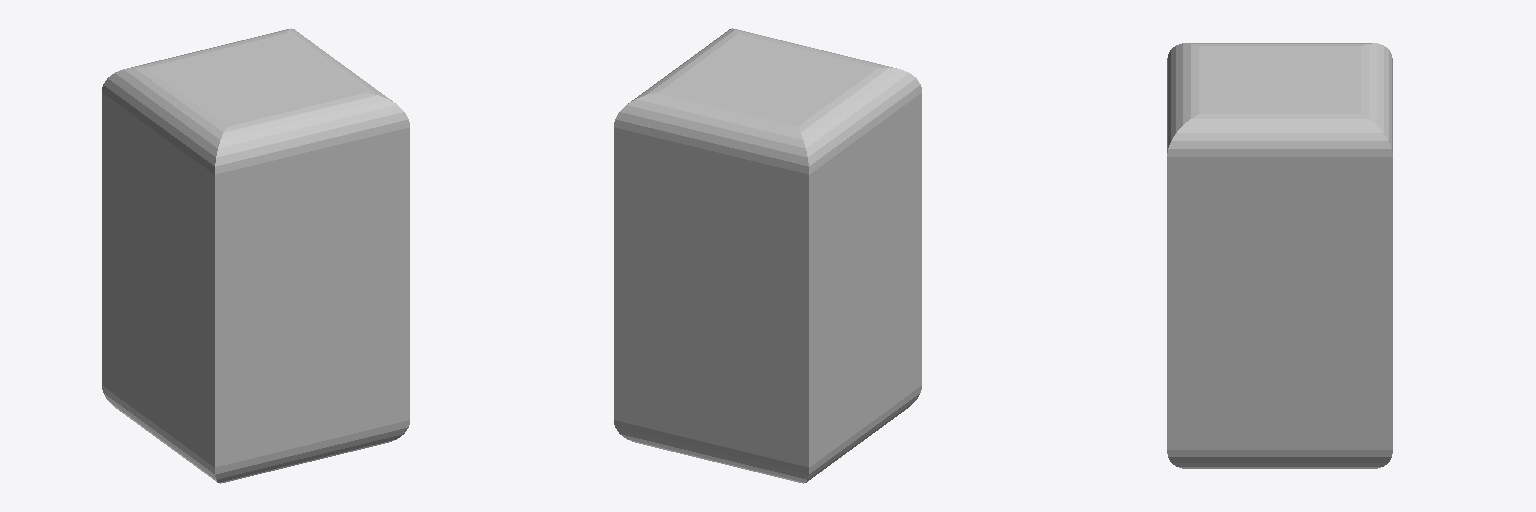
File: original-85.obj
3 renders of one model, left to right at view 1: azimuth 30°, elevation 25°; view 2: azimuth 150°, elevation 25°; view 3: azimuth 270°, elevation 25°, orthographic.
Visible parts, largest first — view 1: Group70/mesh130/mesh130-geometry#mesh130-geometry; view 2: Group70/mesh130/mesh130-geometry#mesh130-geometry; view 3: Group70/mesh130/mesh130-geometry#mesh130-geometry.
Part boxes in pixels (bbox=[...]): Group70/mesh130/mesh130-geometry#mesh130-geometry: bbox=[102, 28, 409, 483]; Group70/mesh130/mesh130-geometry#mesh130-geometry: bbox=[614, 28, 921, 483]; Group70/mesh130/mesh130-geometry#mesh130-geometry: bbox=[1167, 43, 1392, 468].
Bounding box in the file's own units: 0.0401 × 0.0687 × 0.0401.